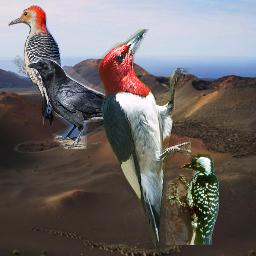Crow: (27, 59, 146, 149)
Woodpecker: (97, 29, 191, 252), (8, 5, 62, 125), (166, 154, 219, 245)
